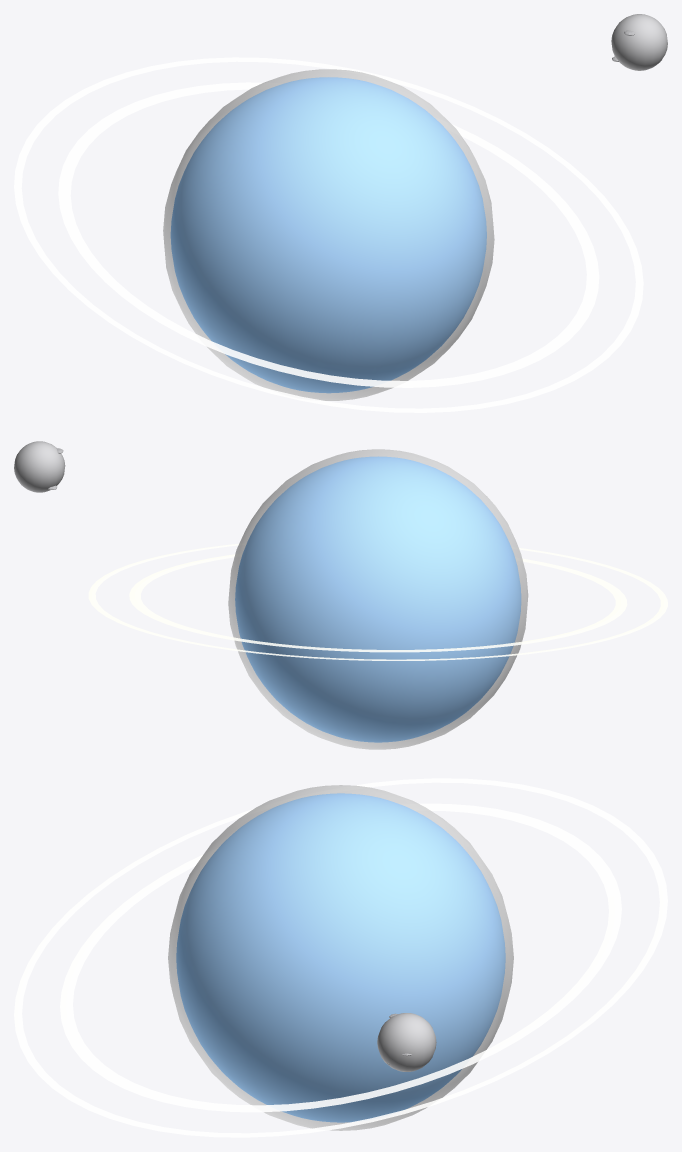
File: planet.glb
The picture shows the model from 3 angles, top to bottom: view 1: azimuth 30°, elevation 25°; view 2: azimuth 150°, elevation 25°; view 3: azimuth 270°, elevation 25°; orthographic projection. The views are drawn at different scales.
Visible parts, largest first — view 1: Clouds, Planet, Torus, Torus.001, Moon; view 2: Clouds, Planet, Torus, Torus.001, Moon; view 3: Clouds, Planet, Torus, Torus.001, Moon.
Boxes of the visible parts, <box> form: Clouds: <box>163,69,494,400</box>; Planet: <box>170,77,486,393</box>; Torus: <box>58,82,599,387</box>; Torus.001: <box>14,57,643,412</box>; Moon: <box>611,14,667,70</box>; Clouds: <box>228,449,528,749</box>; Planet: <box>235,456,521,742</box>; Torus: <box>129,554,627,652</box>; Torus.001: <box>88,543,667,660</box>; Moon: <box>14,441,65,492</box>; Clouds: <box>168,785,513,1130</box>; Planet: <box>176,793,505,1122</box>; Torus: <box>60,803,621,1112</box>; Torus.001: <box>14,778,667,1137</box>; Moon: <box>377,1013,436,1071</box>.
Bounding box in the file's own units: 4.7 × 2.1 × 3.97.
